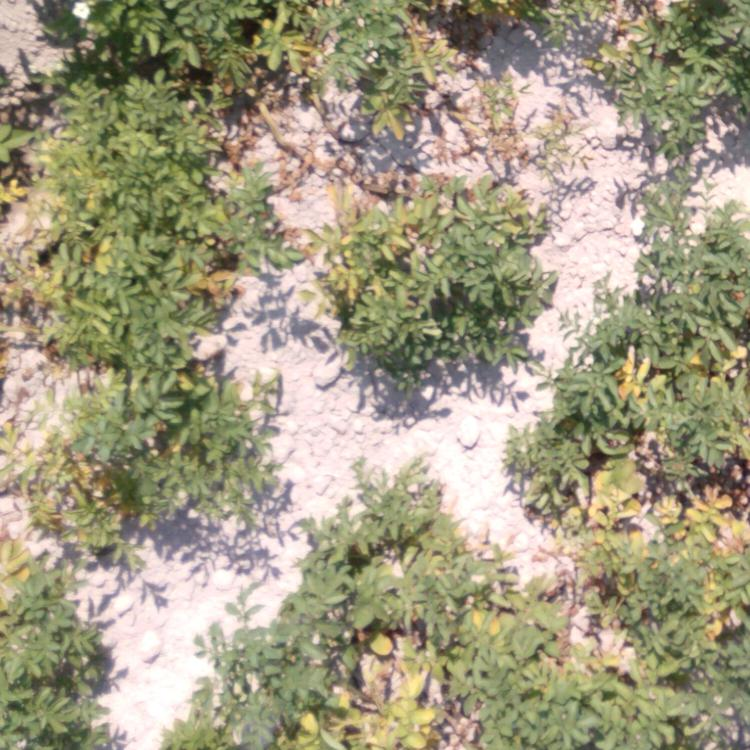healthy: (9, 604, 89, 744), (665, 11, 743, 122), (101, 5, 225, 53)
stressed: (38, 83, 225, 373), (327, 180, 543, 383), (546, 328, 743, 536), (43, 369, 263, 552), (499, 538, 743, 700), (248, 7, 499, 128), (302, 598, 471, 749)
